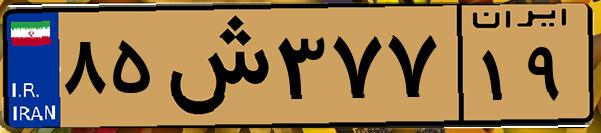1: (475, 38, 525, 113)
3: (270, 28, 330, 110)
5: (110, 28, 158, 98)
7: (385, 28, 445, 110), (330, 28, 385, 110)
8: (57, 26, 110, 100)
9: (525, 38, 570, 115)
ش: (158, 12, 270, 120)
